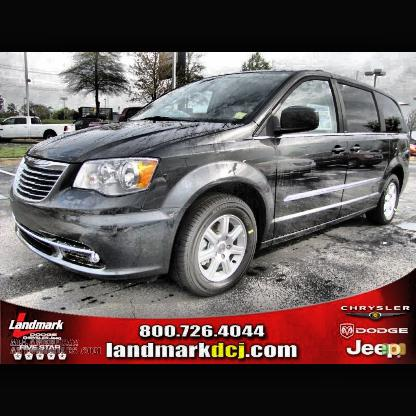Chrysler Town and Country Minivan 2012: (13, 73, 410, 296)
